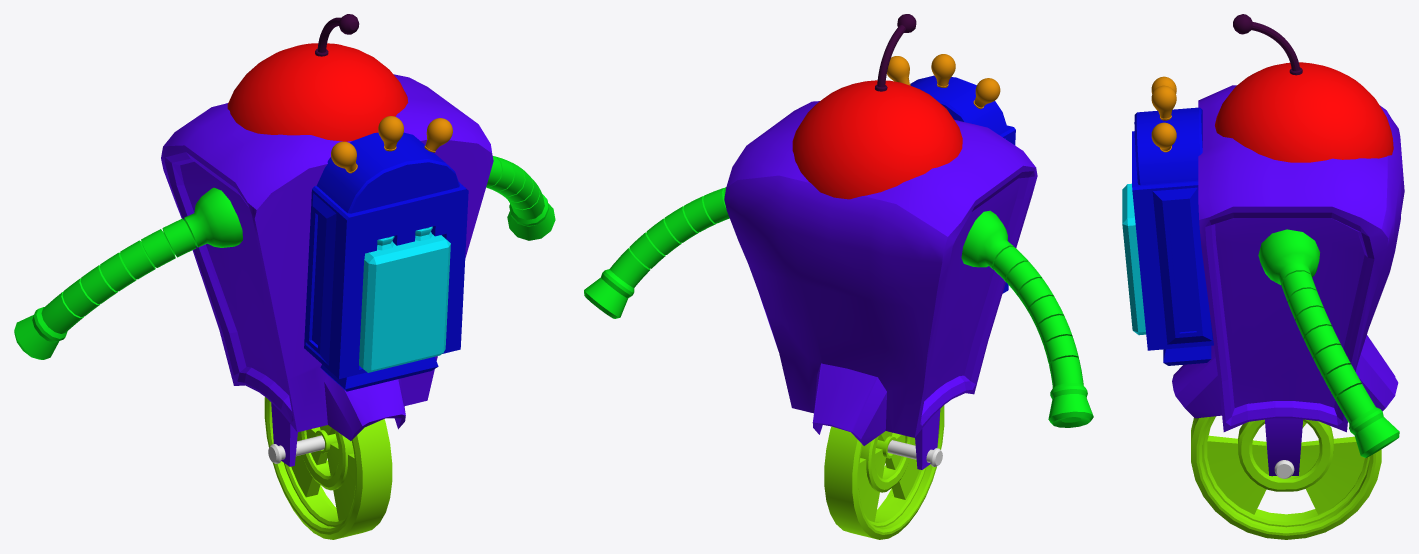
The model's file is Jenno.FBX.
3 renders of one model, left to right at view 1: azimuth 30°, elevation 25°; view 2: azimuth 150°, elevation 25°; view 3: azimuth 270°, elevation 25°, orthographic. The views are drawn at different scales.
Visible parts, largest first — view 1: Box001, 9V Battery, Sphere002, Torus002, Box002, Cylinder001, Sphere003, Torus001, Cylinder002; view 2: Box001, Sphere002, Torus002, Cylinder001, 9V Battery, Sphere003, Torus001, Cylinder002; view 3: Box001, 9V Battery, Cylinder001, Sphere002, Torus002, Box002, Sphere003, Torus001.
Part boxes in pixels (x1,y1,x2,y2): Box001: (161, 74, 493, 466); 9V Battery: (304, 132, 468, 391); Sphere002: (227, 43, 408, 141); Torus002: (14, 156, 555, 359); Box002: (359, 226, 450, 372); Cylinder001: (264, 397, 392, 539); Sphere003: (331, 116, 452, 173); Torus001: (315, 14, 359, 56); Cylinder002: (268, 435, 324, 463); Box001: (724, 101, 1037, 469); Sphere002: (792, 80, 962, 199); Torus002: (584, 187, 1093, 427); Cylinder001: (824, 405, 944, 539); 9V Battery: (910, 75, 1015, 293); Sphere003: (887, 54, 1000, 108); Torus001: (875, 14, 916, 91); Cylinder002: (887, 440, 942, 466); Box001: (1172, 85, 1404, 475); 9V Battery: (1132, 107, 1213, 365); Cylinder001: (1191, 416, 1381, 539); Sphere002: (1215, 62, 1393, 162); Torus002: (1258, 229, 1399, 457); Box002: (1122, 183, 1146, 335); Sphere003: (1151, 76, 1176, 152); Torus001: (1233, 14, 1302, 75).
Size of the model in its own units: 13.63 by 12.9 by 6.38.
